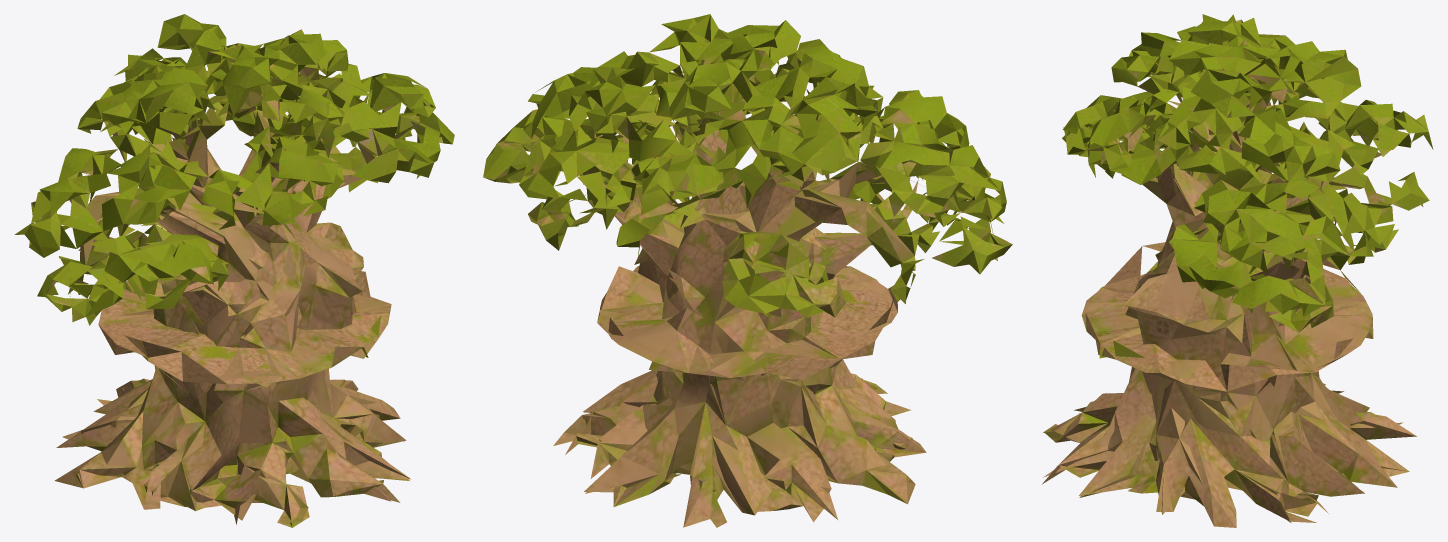
The model's file is treehouse_tree.glb.
3 renders of one model, left to right at view 1: azimuth 30°, elevation 25°; view 2: azimuth 150°, elevation 25°; view 3: azimuth 270°, elevation 25°, orthographic. The views are drawn at different scales.
Bounding box in the file's own units: 1.85 × 1.56 × 1.37.
1 material, 1 textured.
